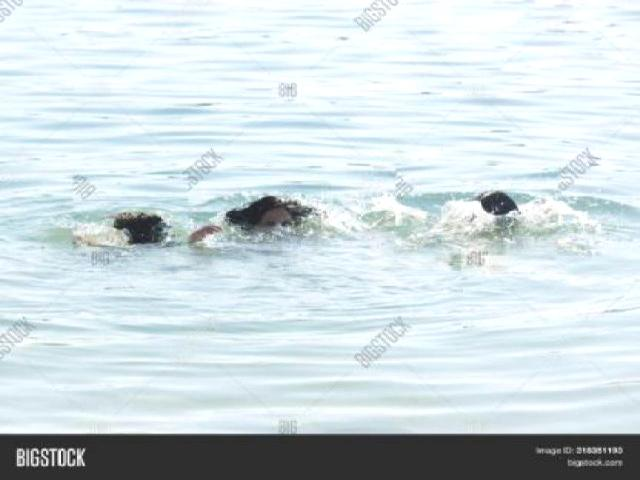drowning: (206, 154, 369, 249), (395, 165, 560, 255), (74, 174, 189, 253)
